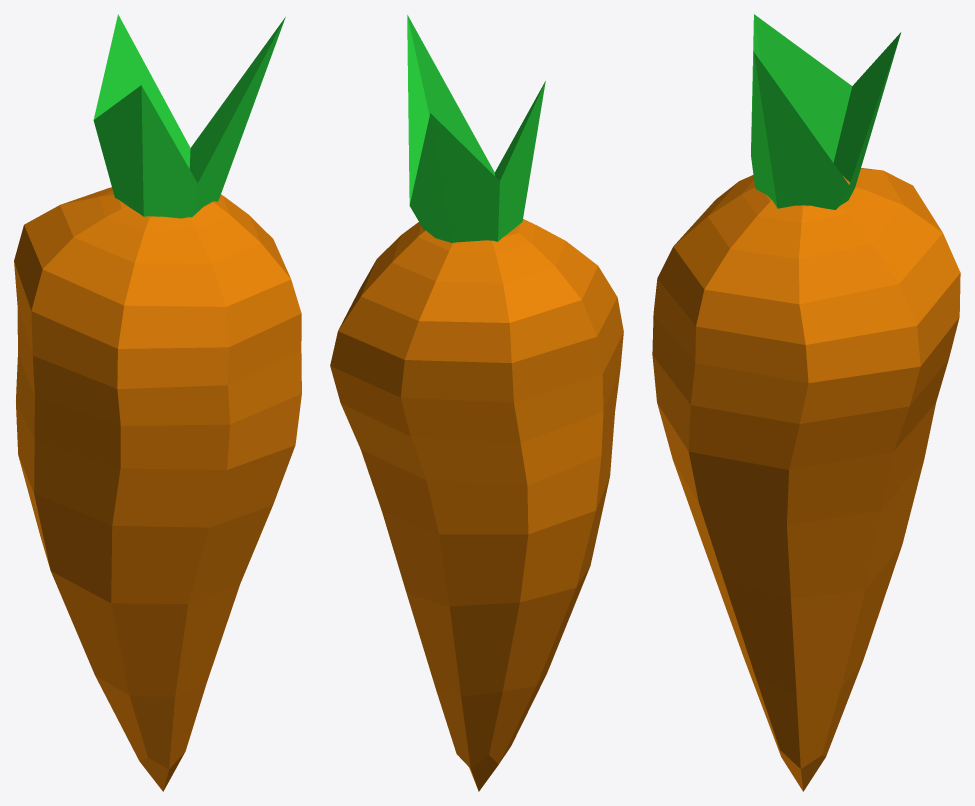
The model's file is carrot_growth_3_var1.glb.
The picture shows the model from 3 angles, left to right: view 1: azimuth 30°, elevation 25°; view 2: azimuth 150°, elevation 25°; view 3: azimuth 270°, elevation 25°; orthographic projection. The views are drawn at different scales.
Visible parts, largest first — view 1: carrotbody, carrotleaves; view 2: carrotbody, carrotleaves; view 3: carrotbody, carrotleaves.
Boxes of the visible parts, x1,y1,x2,y2 form: carrotbody: [14, 187, 301, 791]; carrotleaves: [93, 14, 285, 218]; carrotbody: [330, 219, 623, 791]; carrotleaves: [407, 15, 545, 242]; carrotbody: [652, 168, 960, 791]; carrotleaves: [751, 14, 901, 209].
Size of the model in its own units: 1.35 by 3.88 by 1.37.
